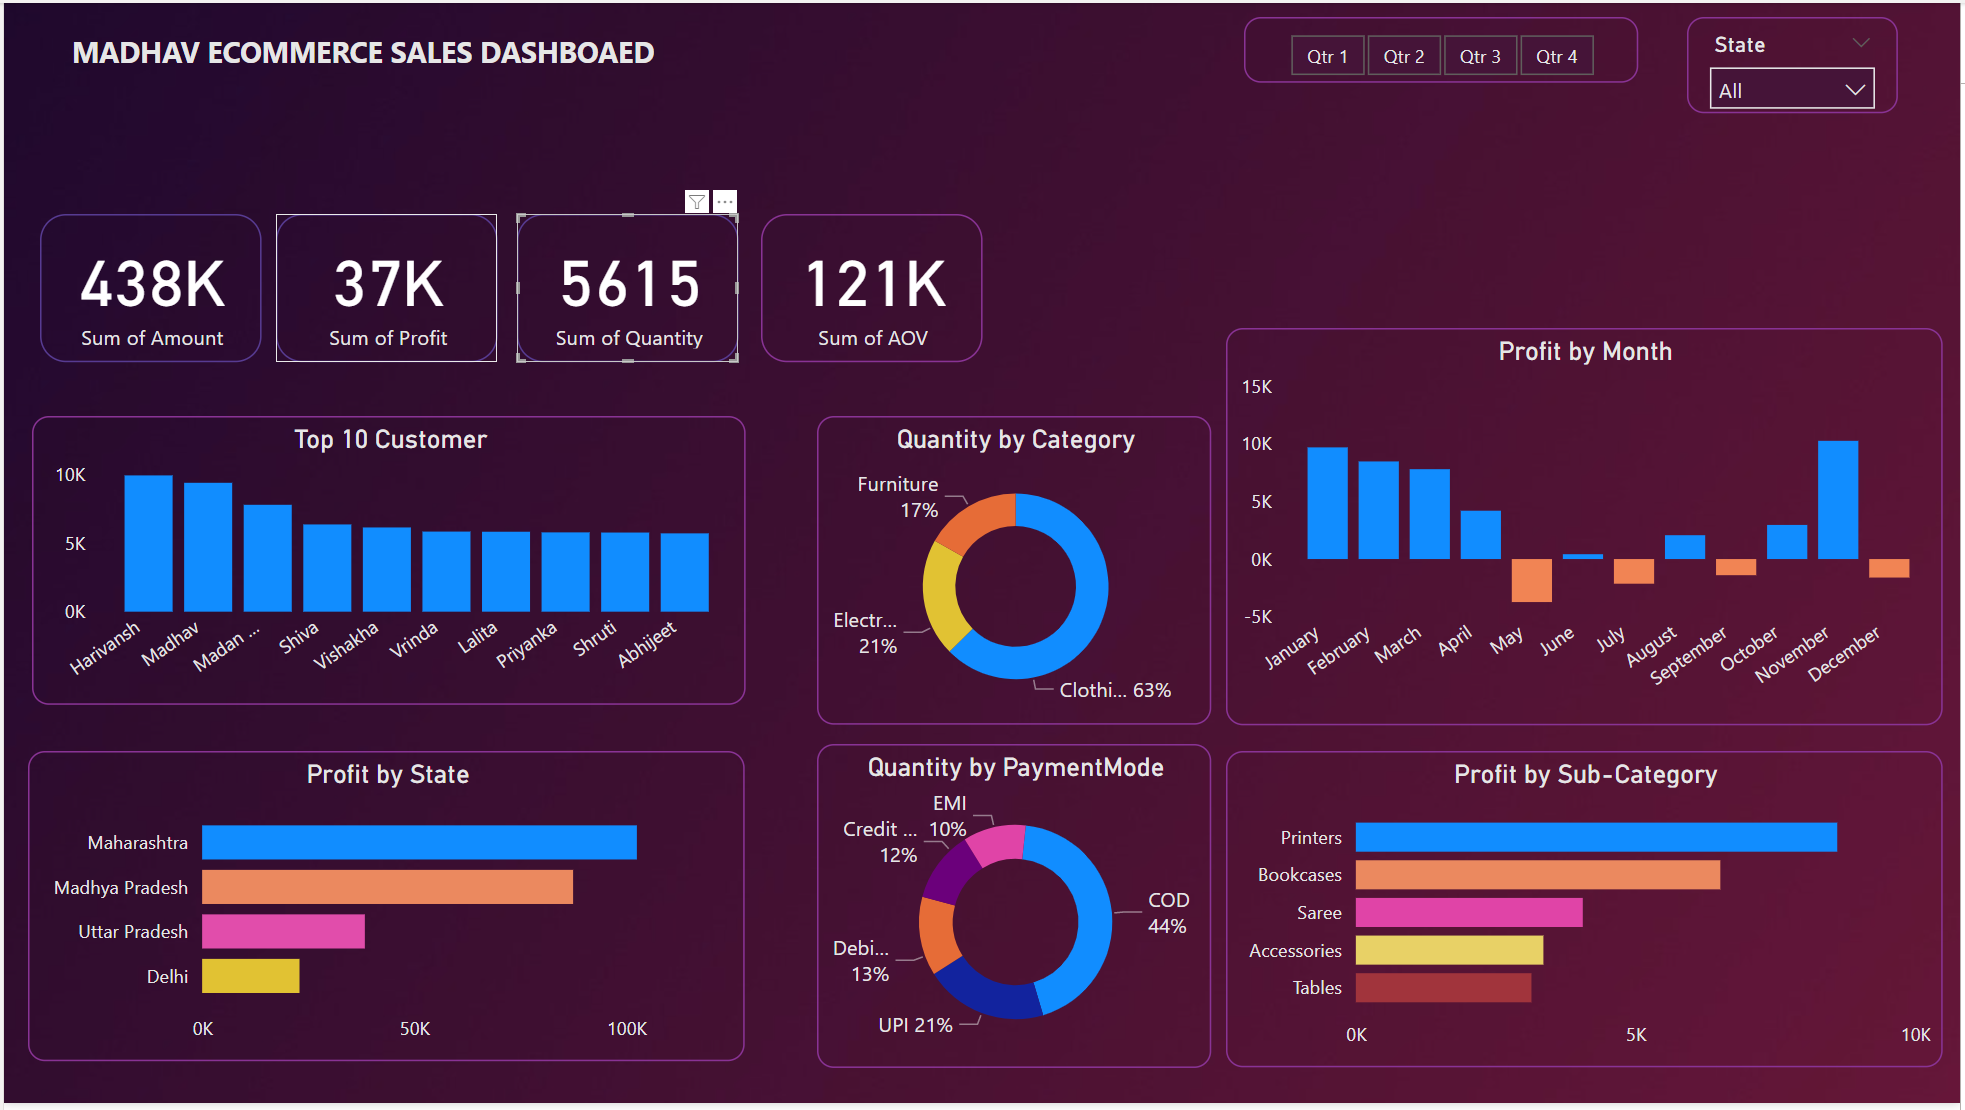

The page's visual inventory and layout, read from the dashboard file:
{"tool":"powerbi","page":{"name":"Madhave Ecommerce Sales Dashboard","canvas":[1280,720],"ordinal":0},"visuals":[{"type":"columnChart","title":"Profit by Month","fields":{"Y":["Sum(Details.Profit)"],"Category":["Orders.Order Date.Variation.Date Hierarchy.Month"]},"box":[799.9,212.8,468.8,259.7],"z":0},{"type":"barChart","title":"Profit by Sub-Category","fields":{"Category":["Details.Sub-Category"],"Y":["Sum(Details.Profit)"]},"box":[799.7,489.5,469.2,206.8],"z":1000},{"type":"donutChart","title":"Quantity by Category","fields":{"Category":["Details.Category"],"Y":["Sum(Details.Quantity)"]},"box":[532.2,270.1,258.5,202.4],"z":2000},{"type":"donutChart","title":"Quantity by PaymentMode","fields":{"Y":["Sum(Details.Quantity)"],"Category":["Details.PaymentMode"]},"box":[532.2,484.7,258.5,211.5],"z":3000},{"type":"textbox","box":[15.7,14.4,438.4,38],"z":4000},{"type":"card","fields":{"Values":["Sum(Details.Amount)"]},"box":[23.8,138.1,144.6,96.9],"z":5000},{"type":"card","fields":{"Values":["Sum(Details.Profit)"]},"box":[178.2,138.1,144.6,96.9],"z":6000},{"type":"card","fields":{"Values":["Sum(Details.Profit)"]},"box":[335.9,138.1,144.6,96.9],"z":7000},{"type":"card","fields":{"Values":["Sum(Details.AOV)"]},"box":[495.6,138.1,144.6,96.9],"z":8000},{"type":"barChart","title":"Profit by State","fields":{"Category":["Orders.State"],"Y":["Sum(Details.Amount)"]},"box":[15.7,489.5,469.2,202.9],"z":9000},{"type":"columnChart","title":"Top 5 Customer","fields":{"Category":["Orders.CustomerName"],"Y":["Sum(Details.Amount)"]},"box":[18.3,270.3,467.2,189.1],"z":10000},{"type":"slicer","fields":{"Values":["Orders.Order Date.Variation.Date Hierarchy.Quarter"]},"box":[811.5,9.2,257.8,43.2],"z":11000},{"type":"slicer","fields":{"Values":["Orders.State"]},"box":[1101.3,9.2,138.1,62.8],"z":12000}]}

Visuals, with their boxes in screenshot pixels (x1, y1, x2, y2), scaled from the page's 1280x720 canvas onto the 1965x1110 screenshot:
"Profit by Month" columnChart: 1228:328:1948:728
"Profit by Sub-Category" barChart: 1228:755:1948:1073
"Quantity by Category" donutChart: 817:416:1214:728
"Quantity by PaymentMode" donutChart: 817:747:1214:1073
textbox: 24:22:697:81
card - Sum(Details.Amount): 37:213:259:362
card - Sum(Details.Profit): 274:213:496:362
card - Sum(Details.Profit): 516:213:738:362
card - Sum(Details.AOV): 761:213:983:362
"Profit by State" barChart: 24:755:744:1067
"Top 5 Customer" columnChart: 28:417:745:708
slicer - Orders.Order Date.Variation.Date Hierarchy.Quarter: 1246:14:1642:81
slicer - Orders.State: 1691:14:1903:111
